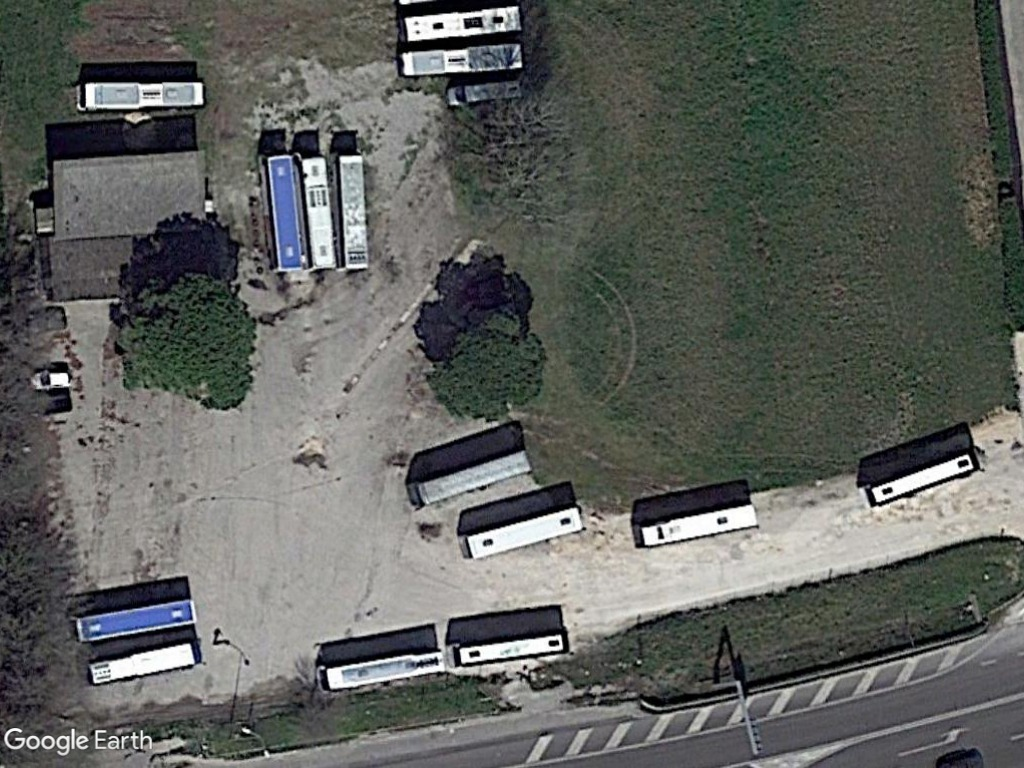bus: (405, 442, 538, 512), (312, 633, 454, 696), (452, 499, 589, 560), (860, 447, 987, 512), (632, 499, 764, 554), (82, 633, 208, 690), (66, 595, 199, 646), (256, 147, 308, 275), (443, 627, 578, 676), (395, 0, 527, 49), (329, 147, 375, 279), (295, 148, 341, 277), (395, 37, 532, 78), (72, 78, 212, 116)
car: (27, 368, 76, 393)
van: (441, 74, 530, 107)
